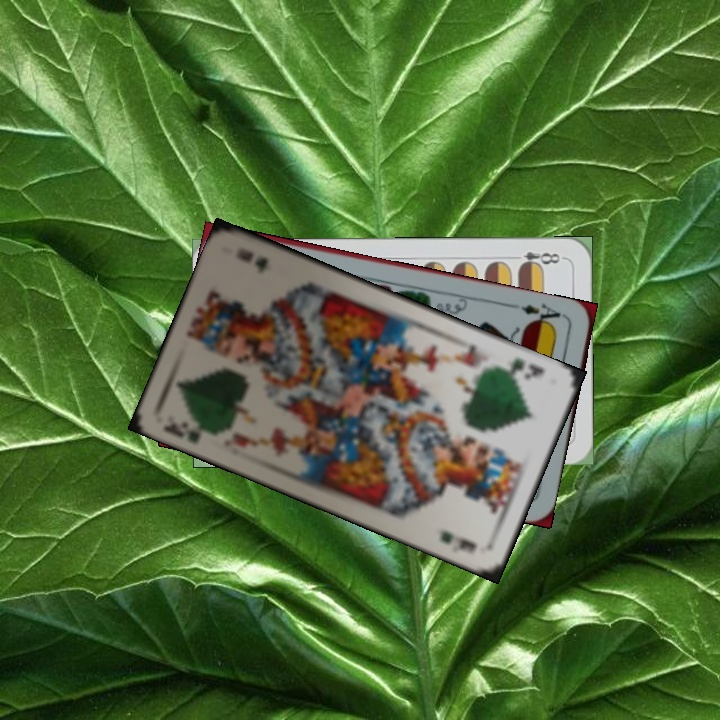E8: (507, 248, 566, 271)
EA: (509, 300, 568, 330)
GK: (158, 419, 216, 447), (495, 354, 547, 383)
